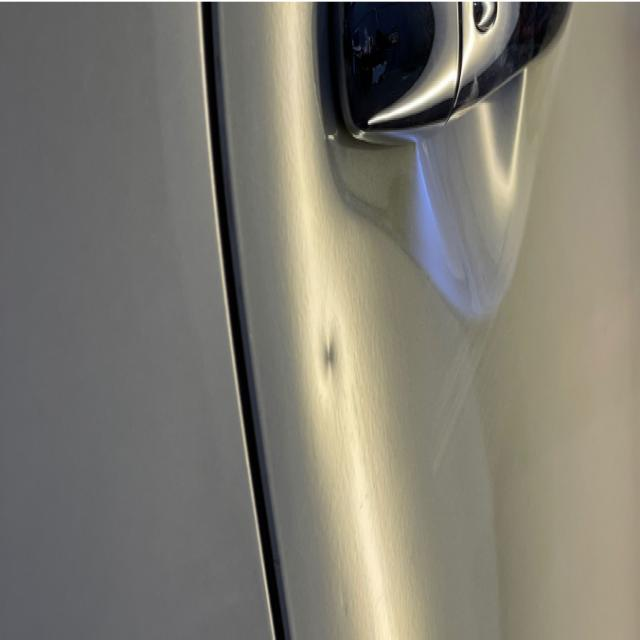dents: (318, 317, 342, 403), (335, 581, 356, 626)
